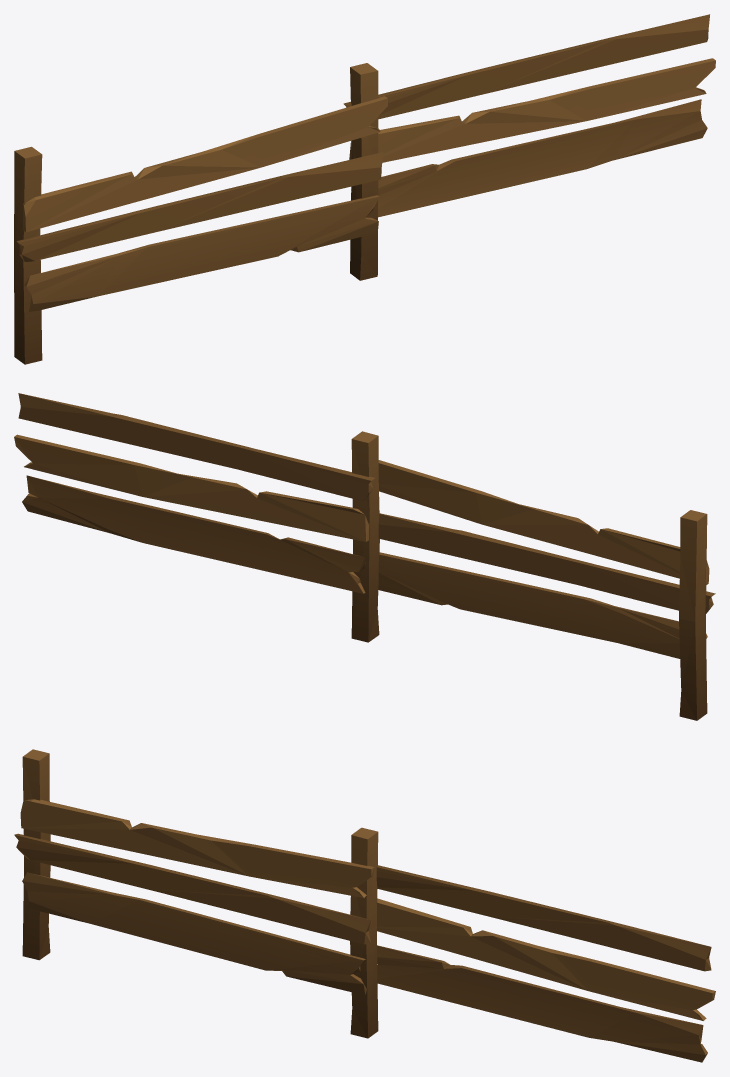
Rendered from Fence_05.fbx.
3 renders of one model, top to bottom at view 1: azimuth 30°, elevation 25°; view 2: azimuth 150°, elevation 25°; view 3: azimuth 330°, elevation 25°, orthographic. The views are drawn at different scales.
Parts seen in each view (by area): view 1: Fence_05; view 2: Fence_05; view 3: Fence_05.
Part boxes in pixels (<box>): Fence_05: <box>14,14,715,364</box>; Fence_05: <box>14,393,715,720</box>; Fence_05: <box>14,749,715,1062</box>.
Bounding box in the file's own units: 408 × 113 × 16.45.
